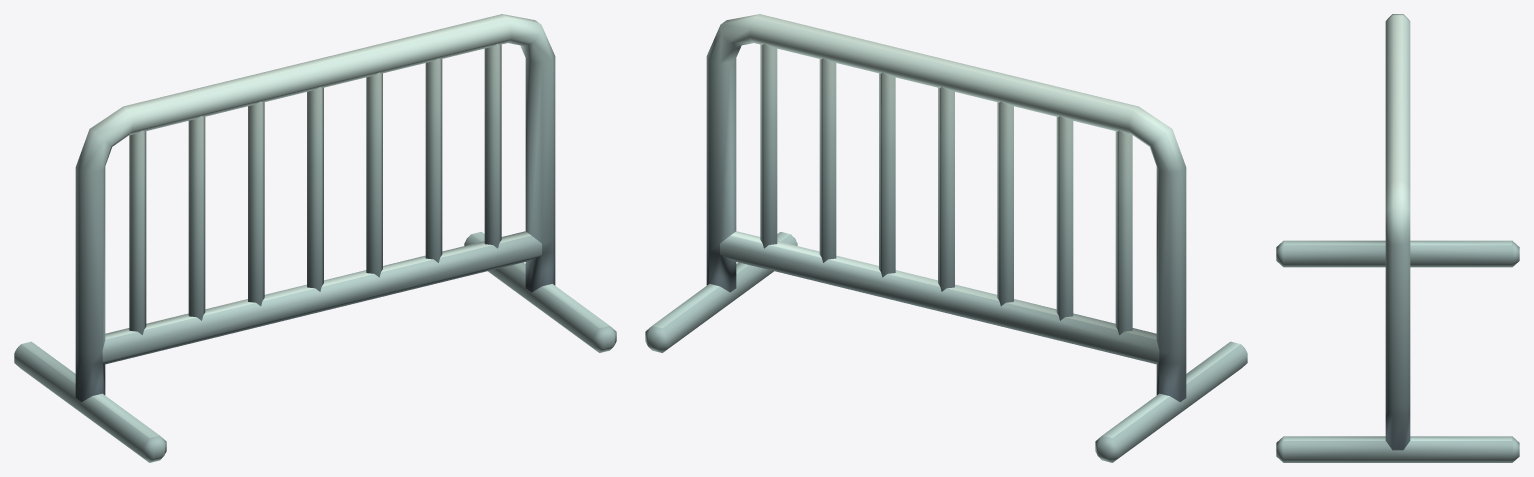
Rendered from barrier_metal_fence.fbx.
The picture shows the model from 3 angles, left to right: view 1: azimuth 30°, elevation 25°; view 2: azimuth 150°, elevation 25°; view 3: azimuth 270°, elevation 25°; orthographic projection. The views are drawn at different scales.
Visible parts, largest first — view 1: barrier_metal_fence; view 2: barrier_metal_fence; view 3: barrier_metal_fence.
Part boxes in pixels (bbox=[...]): barrier_metal_fence: bbox=[14, 14, 616, 462]; barrier_metal_fence: bbox=[645, 14, 1247, 462]; barrier_metal_fence: bbox=[1276, 14, 1519, 462].
Bounding box in the file's own units: 200 × 120 × 100.
